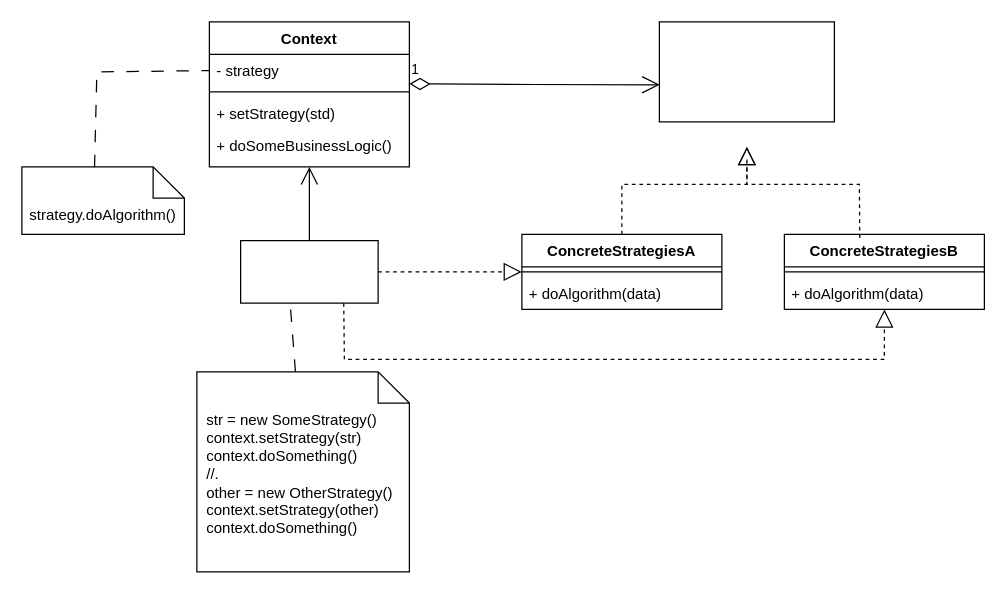
This 1006x594 diagram has some shape labels left out. Each missing label, with the centre of its shape:
"<<Interface>> Strategy + doAlgorithm(data)" goes at pixel 746 71.
"Client" goes at pixel 308 271.
